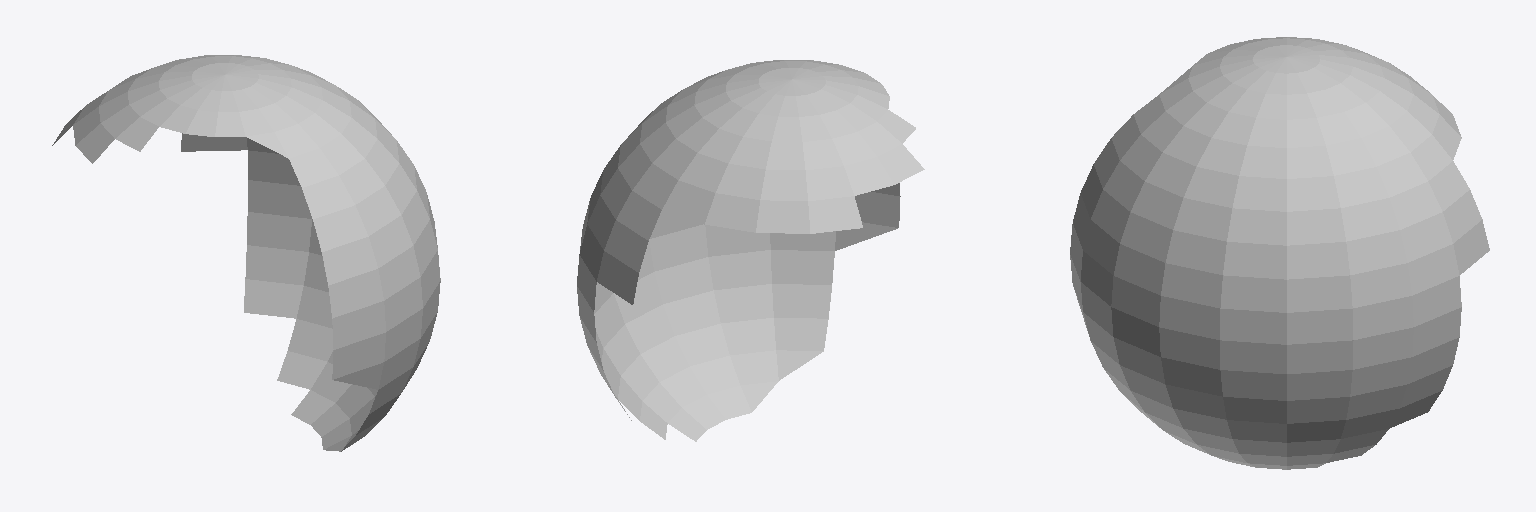
The model's file is objWithUv.obj.
3 renders of one model, left to right at view 1: azimuth 30°, elevation 25°; view 2: azimuth 150°, elevation 25°; view 3: azimuth 270°, elevation 25°, orthographic.
Visible parts, largest first — view 1: objWithUv; view 2: objWithUv; view 3: objWithUv.
Part boxes in pixels (x1,y1,x2,y2): objWithUv: (52, 55, 440, 451); objWithUv: (577, 60, 924, 441); objWithUv: (1070, 37, 1489, 469).
Size of the model in its own units: 1.2 by 1.32 by 1.36.